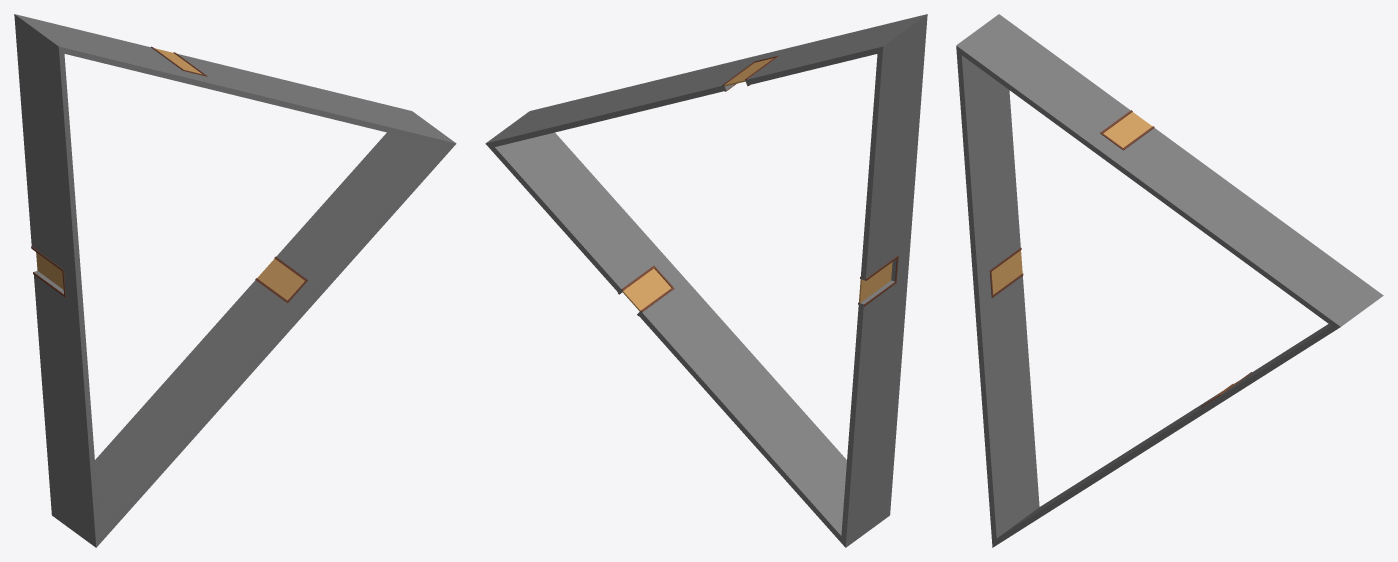
File: Muros_Obj.obj
The picture shows the model from 3 angles, left to right: view 1: azimuth 30°, elevation 25°; view 2: azimuth 150°, elevation 25°; view 3: azimuth 330°, elevation 25°; orthographic projection. The views are drawn at different scales.
Visible parts, largest first — view 1: Walls__Basic Wall__Generic - 8"__288229, Walls__Basic Wall__Generic - 8"__288296, Walls__Basic Wall__Generic - 8"__288203, Doors__Single-Flush__36" x 84"__288304:5; view 2: Walls__Basic Wall__Generic - 8"__288229, Walls__Basic Wall__Generic - 8"__288296, Walls__Basic Wall__Generic - 8"__288203, Doors__Single-Flush__36" x 84"__288304:5, Doors__Single-Flush__36" x 84"__288304:8; view 3: Walls__Basic Wall__Generic - 8"__288203, Walls__Basic Wall__Generic - 8"__288296, Walls__Basic Wall__Generic - 8"__288229, Doors__Single-Flush__36" x 84"__288304:2, Doors__Single-Flush__36" x 84"__288304:8.
Boxes of the visible parts, <box> form: Walls__Basic Wall__Generic - 8"__288229: <box>51,132,451,547</box>; Walls__Basic Wall__Generic - 8"__288296: <box>14,20,100,541</box>; Walls__Basic Wall__Generic - 8"__288203: <box>14,14,456,148</box>; Doors__Single-Flush__36" x 84"__288304:5: <box>257,258,304,300</box>; Walls__Basic Wall__Generic - 8"__288229: <box>490,132,890,547</box>; Walls__Basic Wall__Generic - 8"__288296: <box>841,20,927,541</box>; Walls__Basic Wall__Generic - 8"__288203: <box>485,14,927,148</box>; Doors__Single-Flush__36" x 84"__288304:5: <box>622,268,671,311</box>; Doors__Single-Flush__36" x 84"__288304:8: <box>859,262,892,302</box>; Walls__Basic Wall__Generic - 8"__288203: <box>956,14,1383,329</box>; Walls__Basic Wall__Generic - 8"__288296: <box>956,52,1039,541</box>; Walls__Basic Wall__Generic - 8"__288229: <box>992,324,1336,547</box>; Doors__Single-Flush__36" x 84"__288304:2: <box>1103,112,1152,147</box>; Doors__Single-Flush__36" x 84"__288304:8: <box>991,250,1022,294</box>.
Bounding box in the file's own units: 51.74 × 63.45 × 10.
